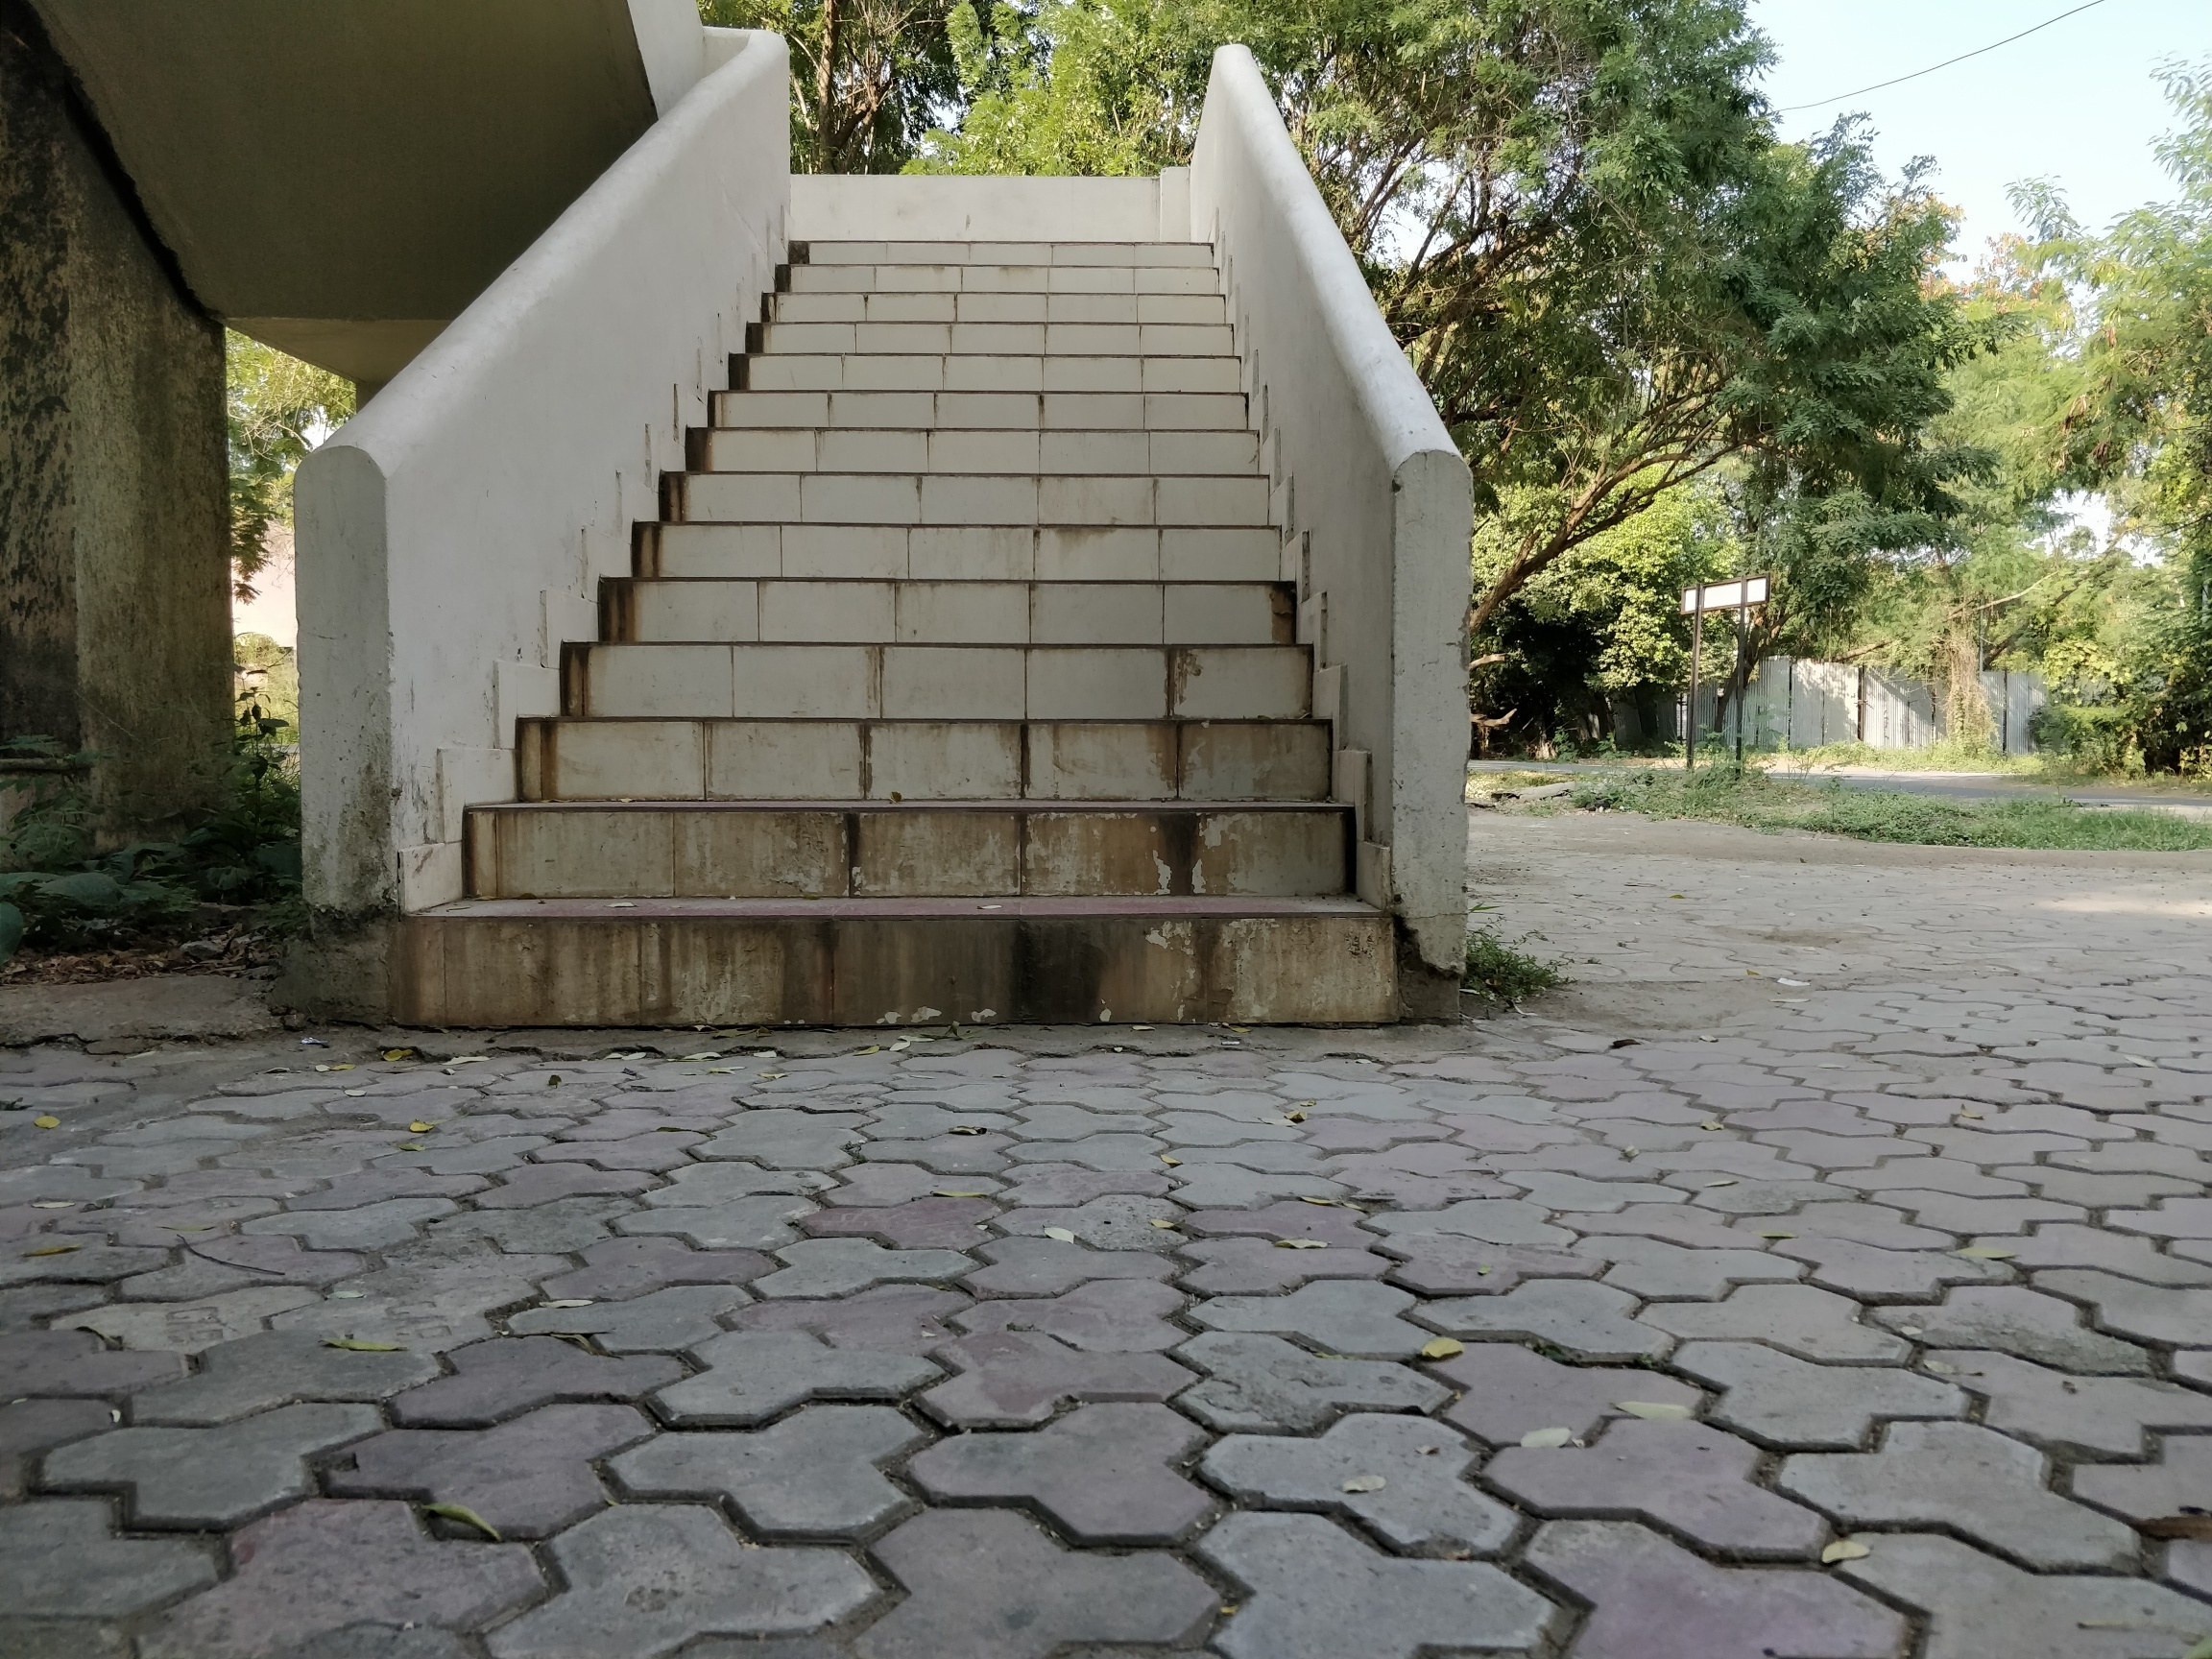stairs_up: (618, 228, 1312, 1053)
